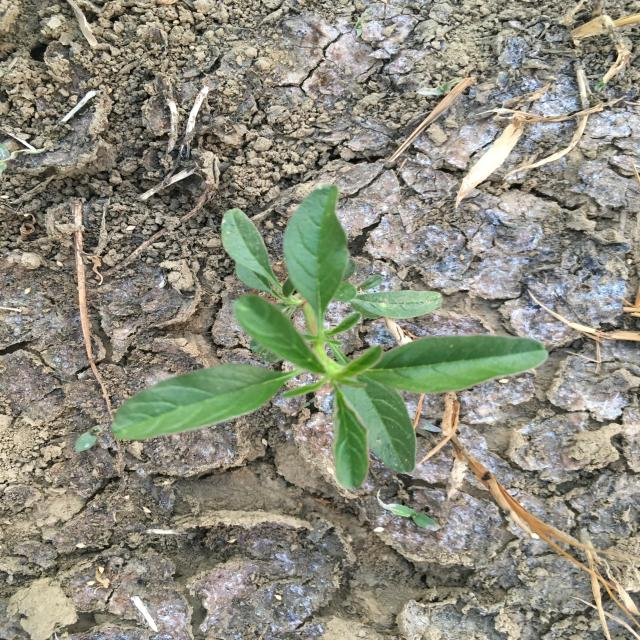Waterhemp: (111, 185, 548, 488)
